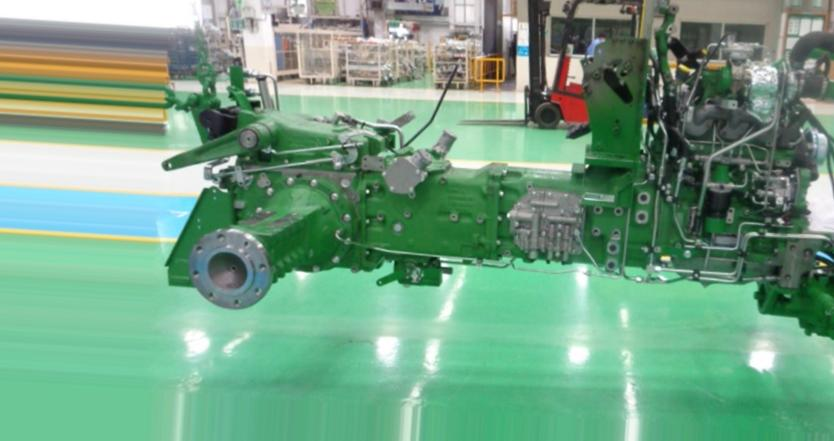engine: (162, 0, 833, 358)
